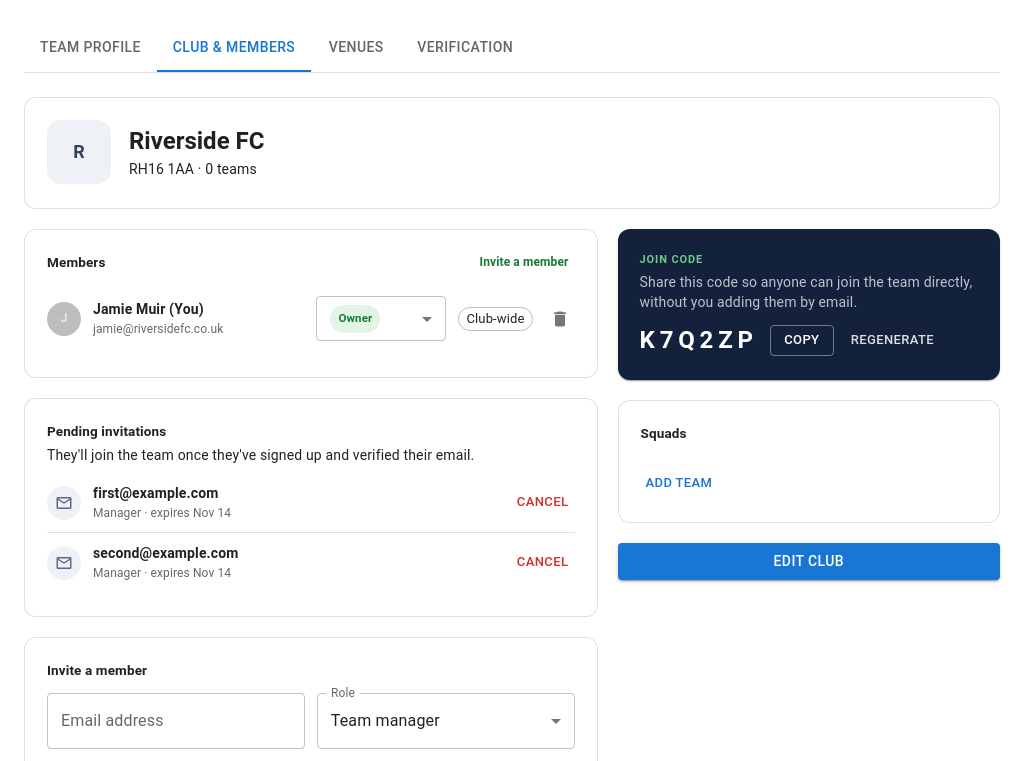
Test: ClubProfilePage members › cancels a pending invitation
This screenshot has width=1024, height=761.
Click the button with aria-label "Cancel invitation to first@example.com" at (543, 503), box [511,487,575,518]
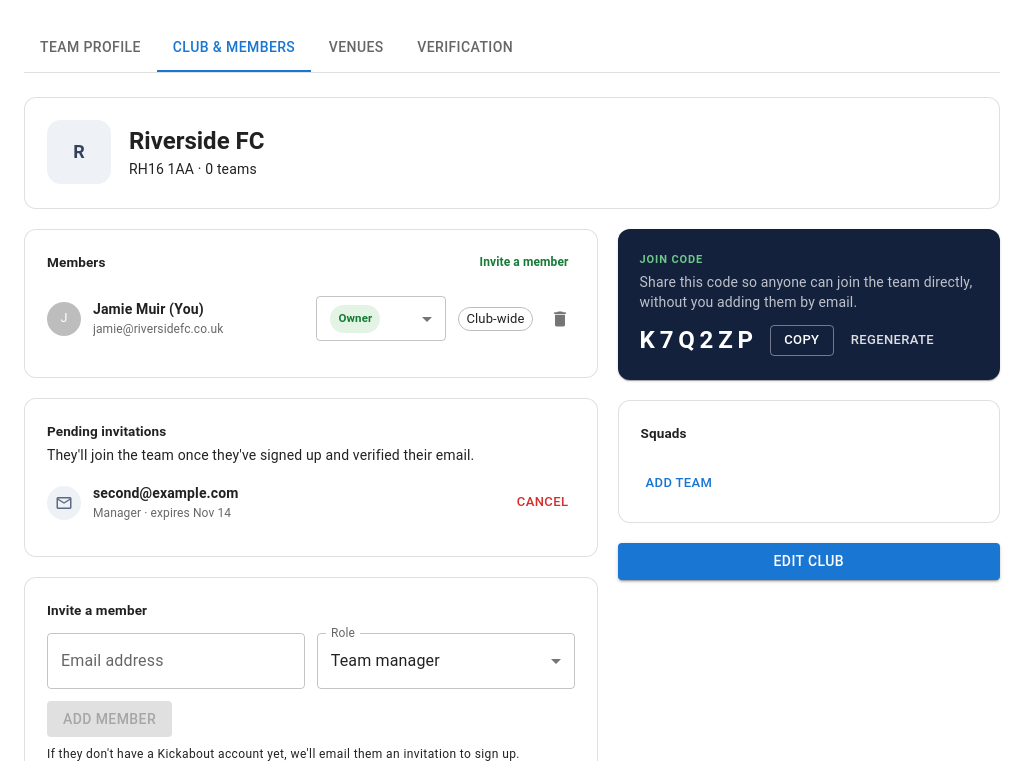
Check: the text "second@example.com" is shown, box [93,485,238,501]
Check: the text "first@example.com" is gone
